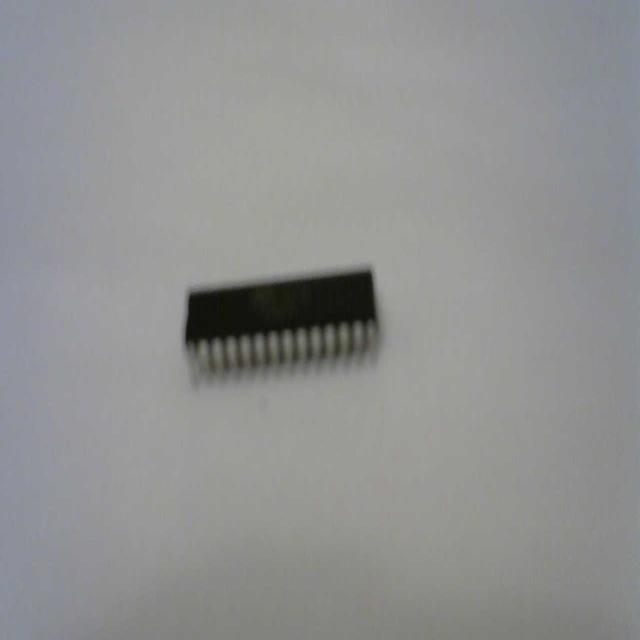atmega: (181, 259, 382, 385)
